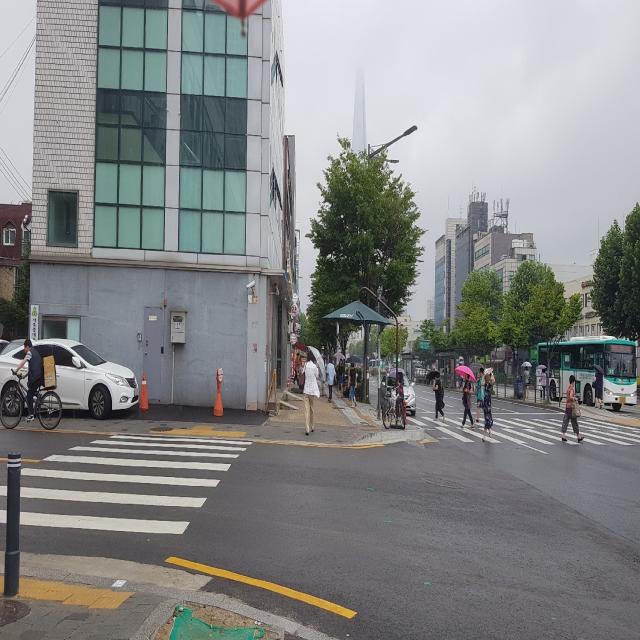횡단보도: (0, 433, 254, 536), (405, 408, 640, 447)
